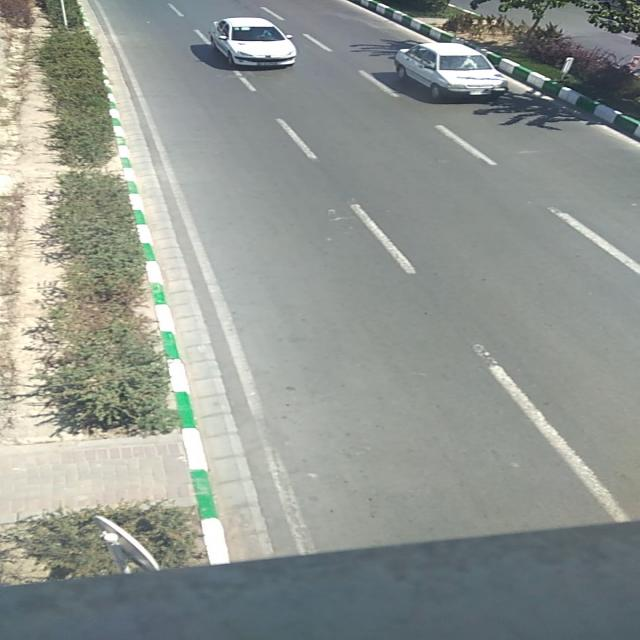car: (393, 42, 510, 100), (207, 18, 296, 66)
